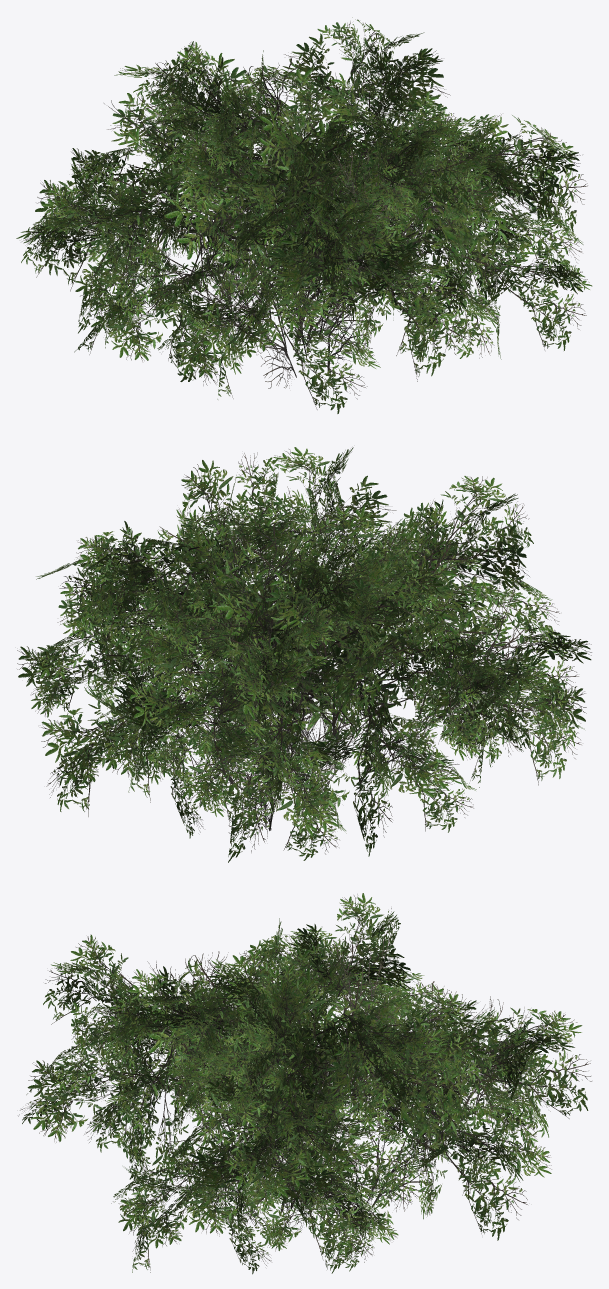
The model's file is cliff_bush_yellow_mini.fbx.
The picture shows the model from 3 angles, top to bottom: view 1: azimuth 30°, elevation 25°; view 2: azimuth 150°, elevation 25°; view 3: azimuth 270°, elevation 25°; orthographic projection. The views are drawn at different scales.
Visible parts, largest first — view 1: leaf_cliff_bush_yellow_min_mesh; view 2: leaf_cliff_bush_yellow_min_mesh; view 3: leaf_cliff_bush_yellow_min_mesh.
Boxes of the visible parts, x1,y1,x2,y2 form: leaf_cliff_bush_yellow_min_mesh: [16, 17, 592, 413]; leaf_cliff_bush_yellow_min_mesh: [17, 447, 591, 862]; leaf_cliff_bush_yellow_min_mesh: [18, 893, 591, 1274].
Bounding box in the file's own units: 12.4 × 7 × 12.58.
Materials: 1 (1 with a texture image).
